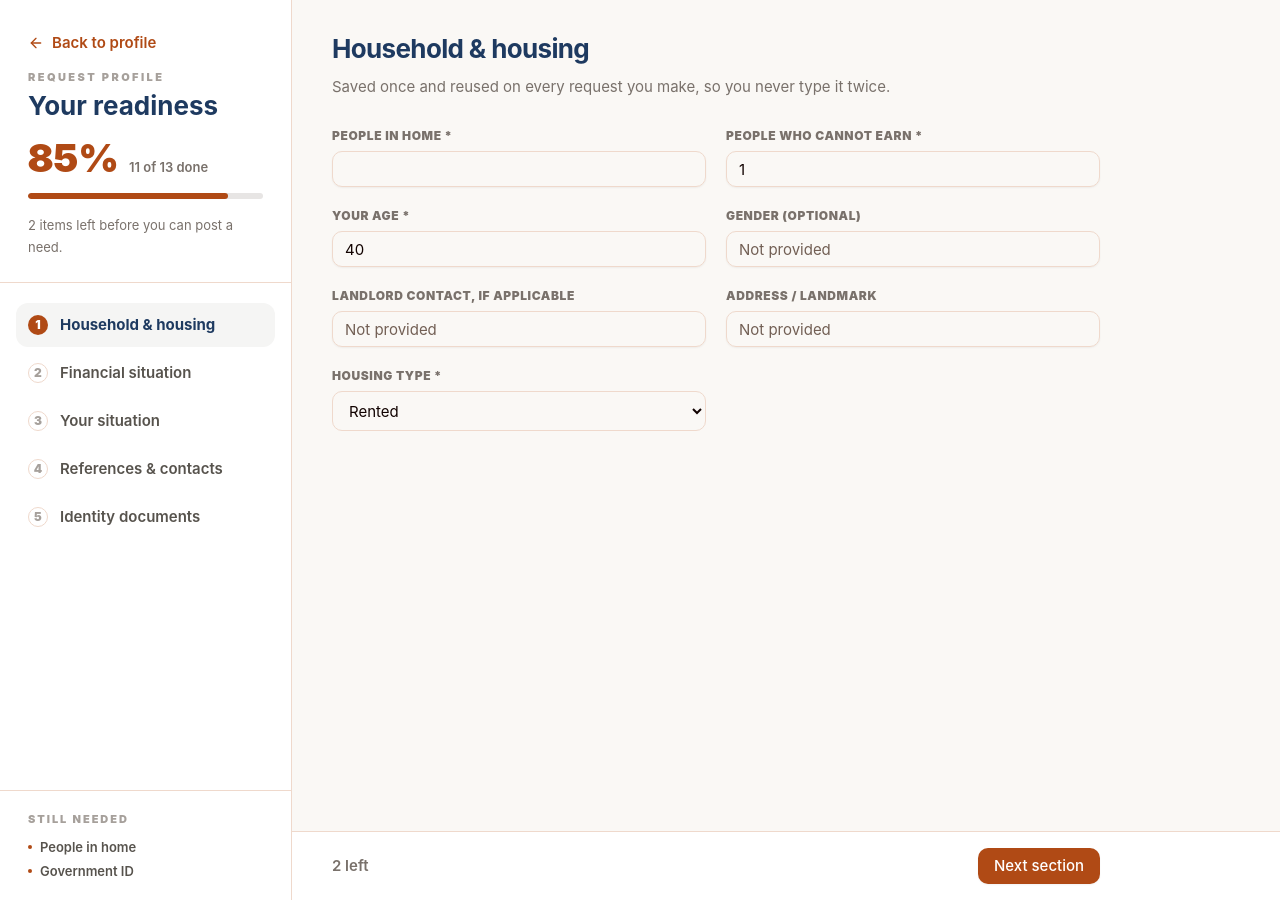
Scenario: updates readiness live while typing, before any save
Expected: the text "2 left" is shown, [332,855,368,877]
Type "4" into the number field labelled "People in home *" at (519, 169), box [332,151,706,187]
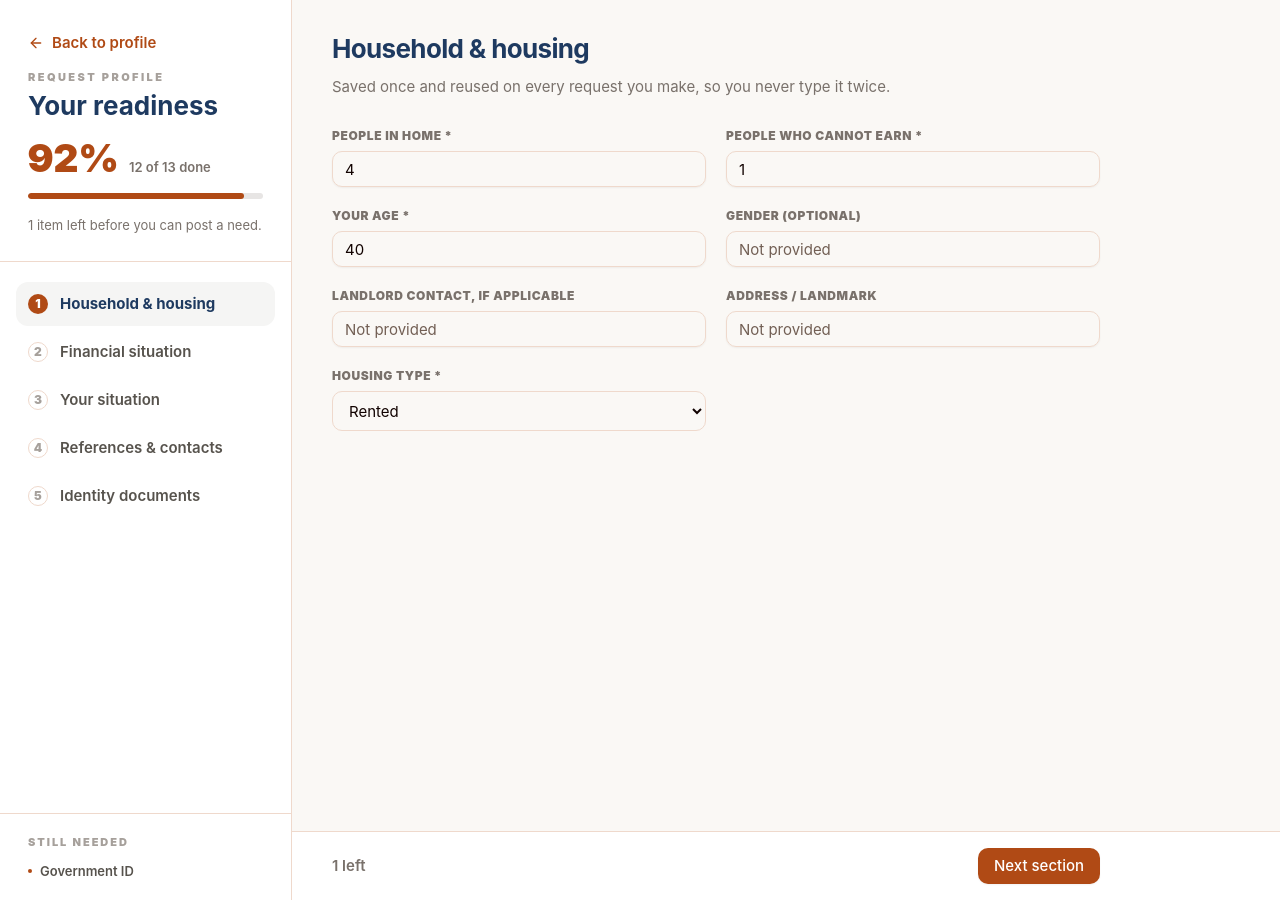
Result: the text "1 left" is shown at [332,855,366,877]
